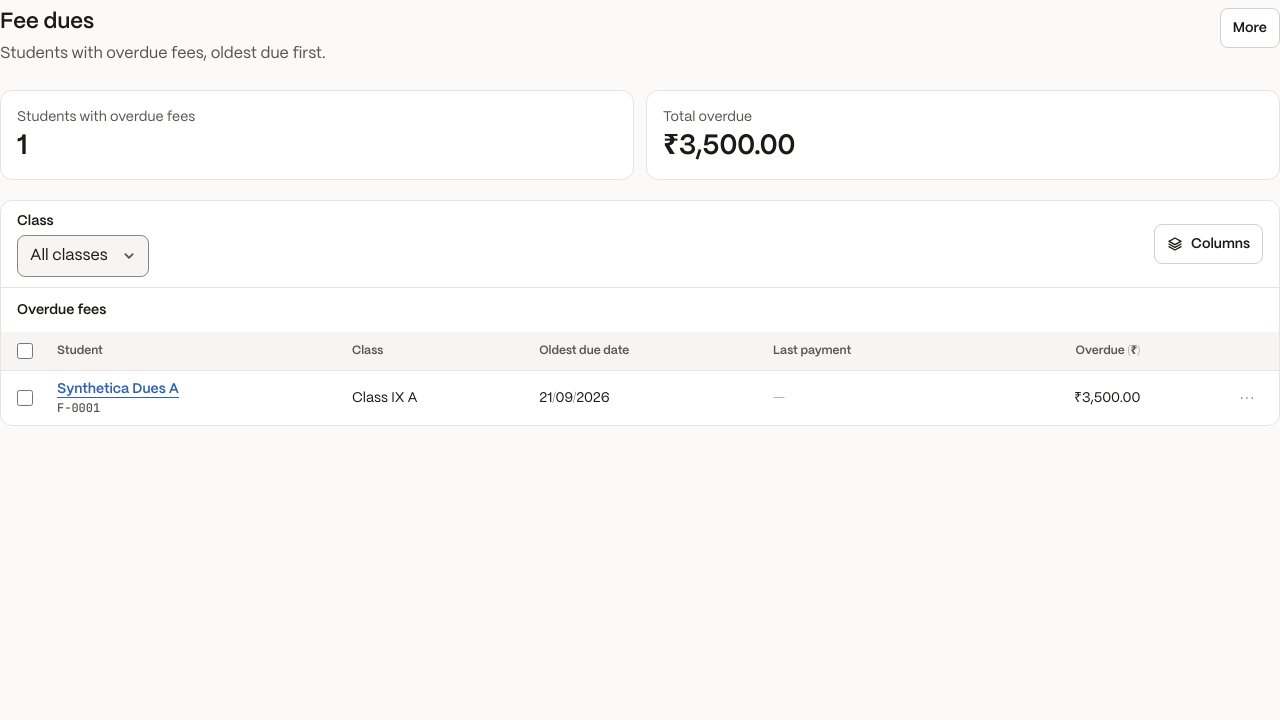
Test: Send payment link from the dues list (FR-MSG-027) › says online payments must be connected and keeps the send button disabled
Step 1. Click the checkbox named "Select Synthetica Dues A" → (25, 398), box left=17, top=390, right=33, bottom=406
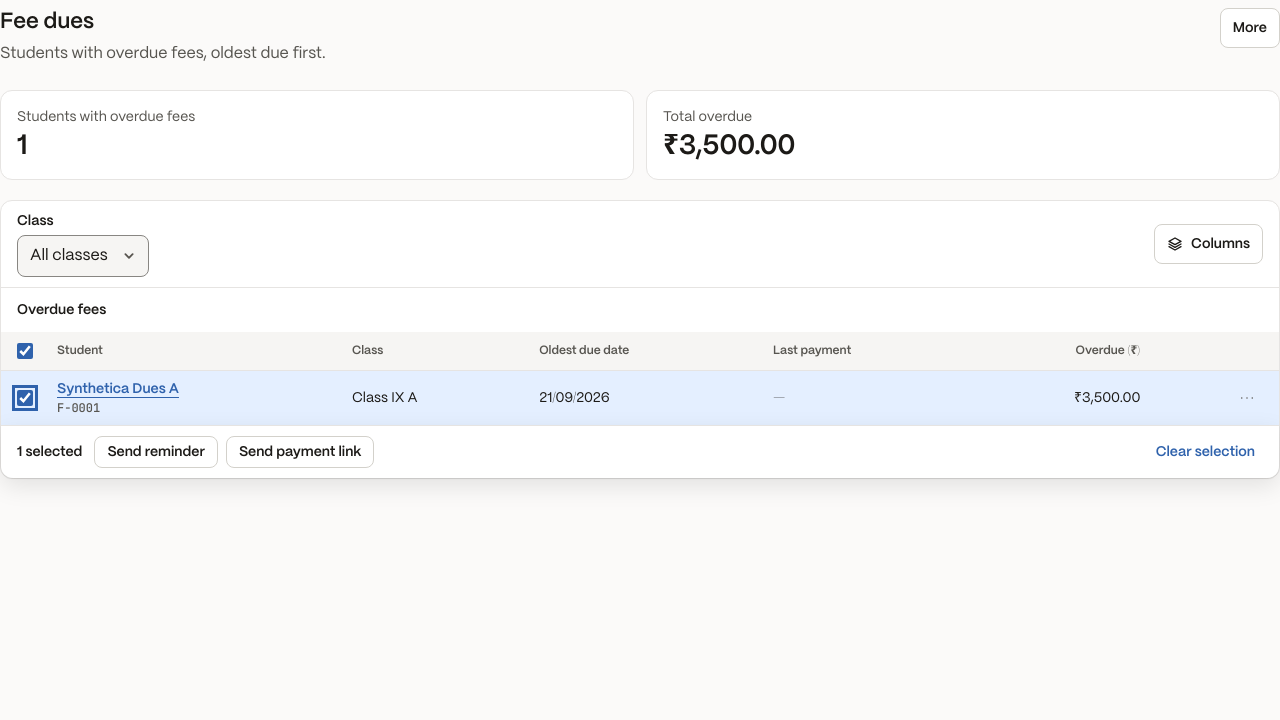
Step 2. Click the button "Send payment link" → (300, 452), box left=226, top=436, right=374, bottom=468
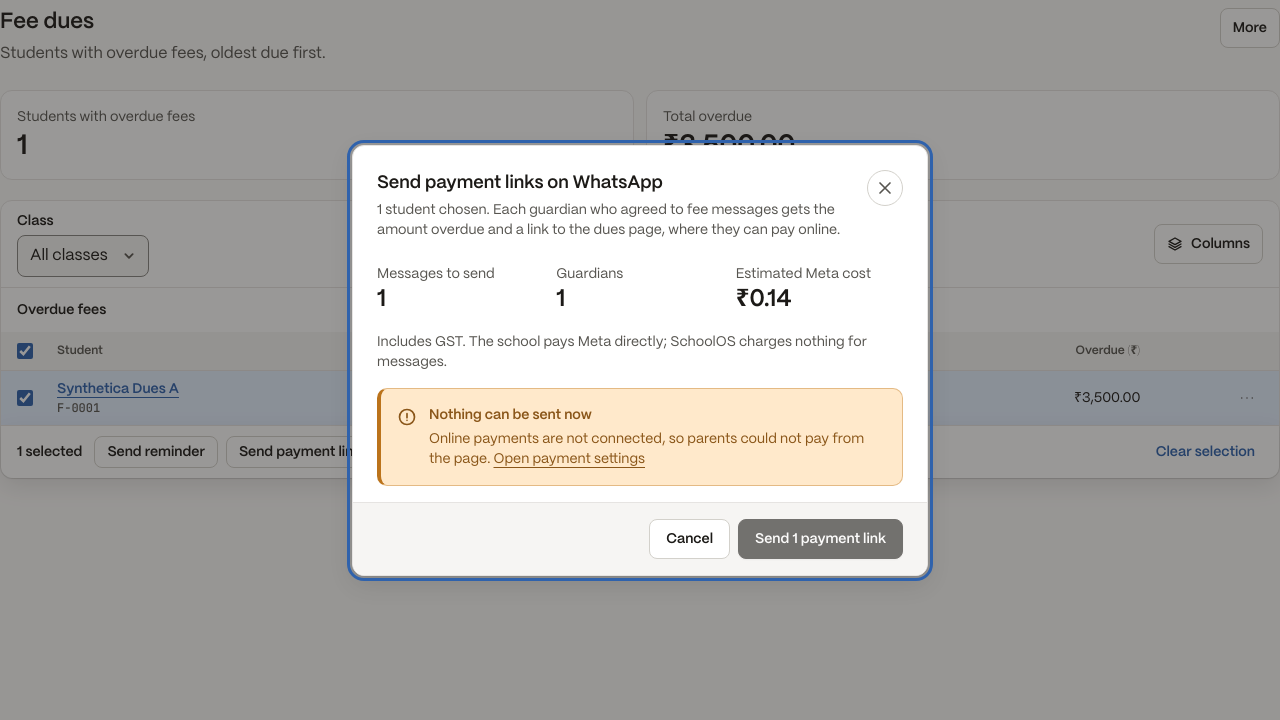
expect the text "Online payments are not connected, so parents could not pay from the page." is shown: met, box left=429, top=432, right=864, bottom=466
expect the button "Send 1 payment link" is disabled: met, box left=738, top=518, right=903, bottom=558
